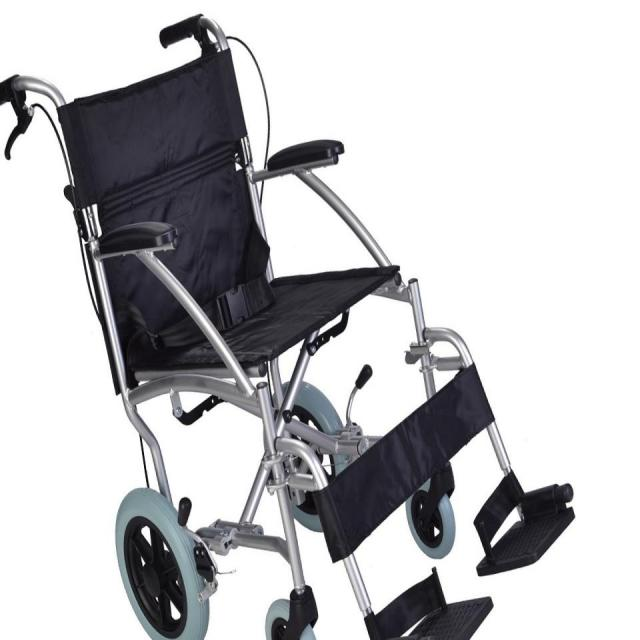wheelchair: (5, 0, 591, 638)
